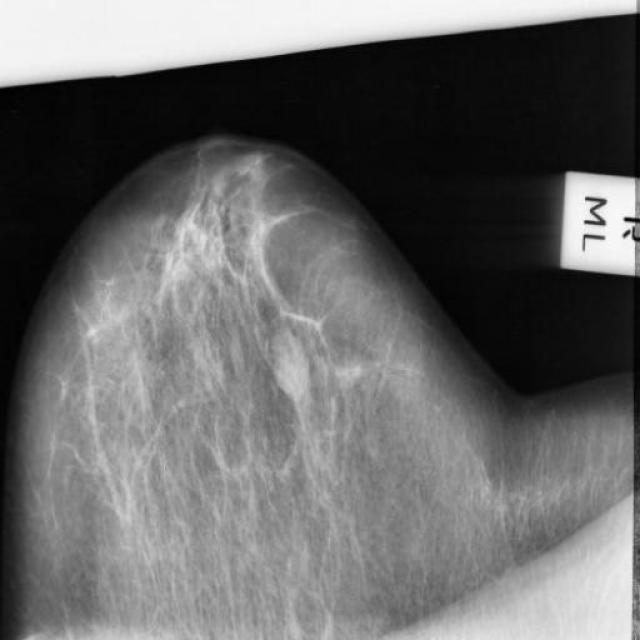cancer: (218, 196, 293, 290)
